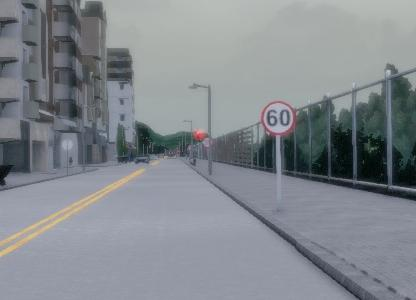Speed_60: (263, 101, 295, 137)
